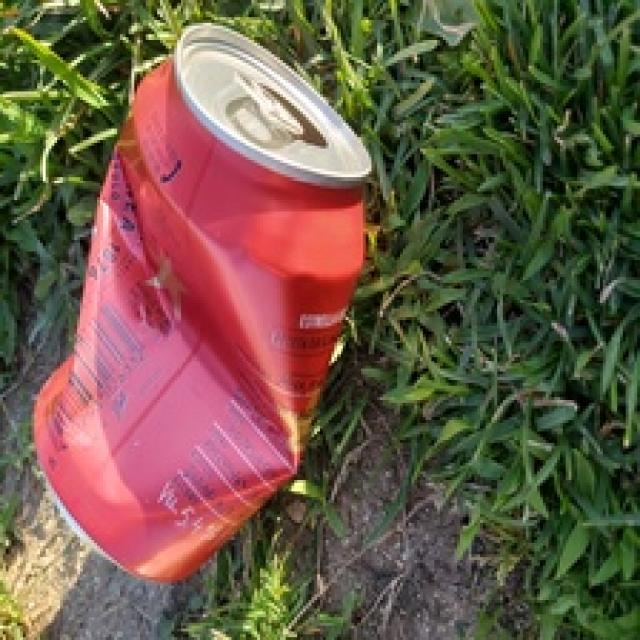recyclable: (32, 18, 372, 583)
